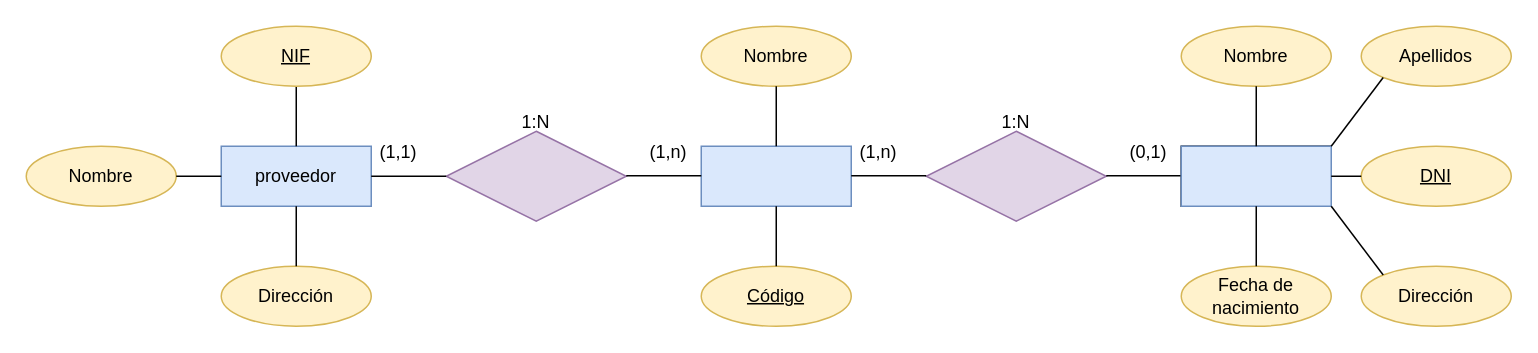
The diagram is 1538 pixels wide and 353 high, and some of its shapes have lost their labels. Here are the shapes that lost their labels. From the top down, the box of each, then its label:
(445, 130, 626, 221): vende
(700, 145, 851, 206): producto
(925, 130, 1106, 221): compra
(1180, 145, 1331, 206): Cliente
